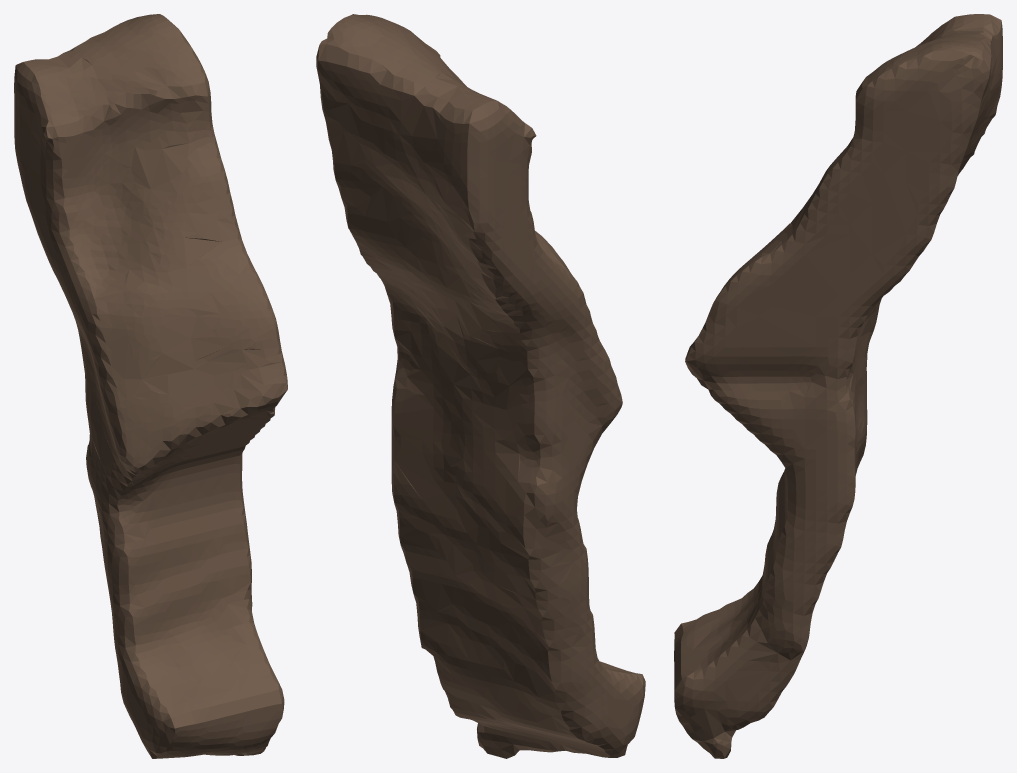
Rendered from Model_10059_LH__Area_24c_of_cortex_(A24c).obj.
3 views of the same model, side by side, from view 1: azimuth 30°, elevation 25°; view 2: azimuth 150°, elevation 25°; view 3: azimuth 270°, elevation 25° (orthographic). The views are drawn at different scales.
Bounding box in the file's own units: 1.64 × 7 × 2.91.
